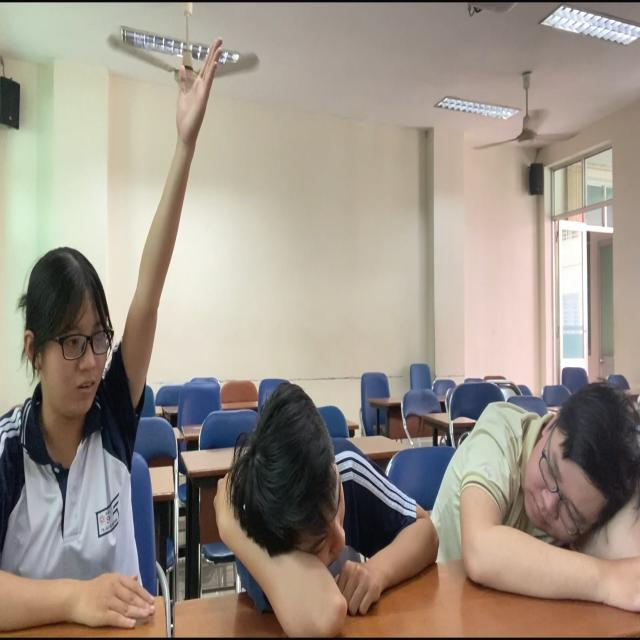raise_hand: (1, 27, 227, 640)
sleep: (451, 350, 640, 615), (227, 376, 429, 623)
